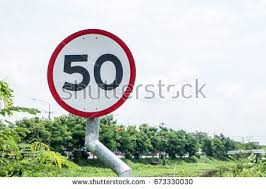Speed_limit_50km: (44, 28, 137, 118)
